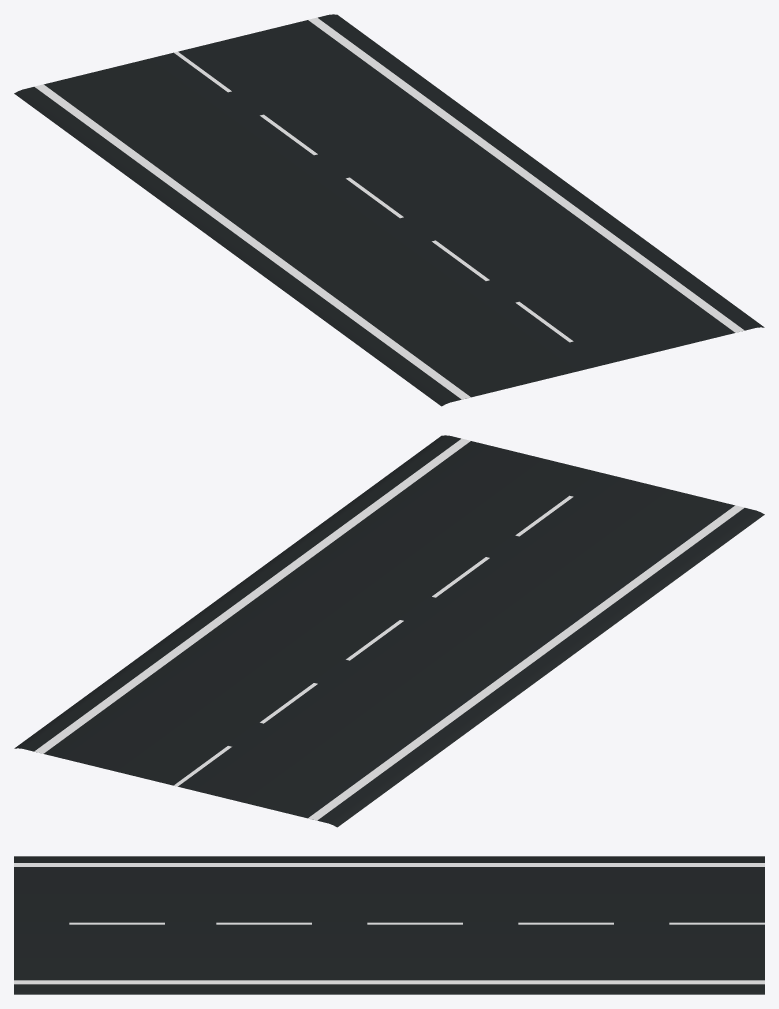
The model's file is Road_01.fbx.
3 views of the same model, one above another, from view 1: azimuth 30°, elevation 25°; view 2: azimuth 150°, elevation 25°; view 3: azimuth 270°, elevation 25° (orthographic). The views are drawn at different scales.
Visible parts, largest first — view 1: Road_01; view 2: Road_01; view 3: Road_01.
Part boxes in pixels (<box>): Road_01: <box>14,14,764,406</box>; Road_01: <box>14,435,764,827</box>; Road_01: <box>14,856,764,994</box>.
Bounding box in the file's own units: 873 × 2000 × 5.22.
